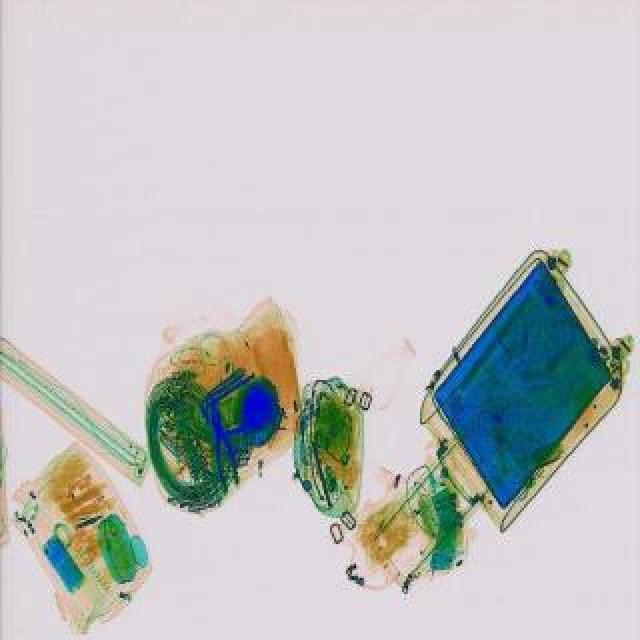wrench: (206, 406, 242, 494)
